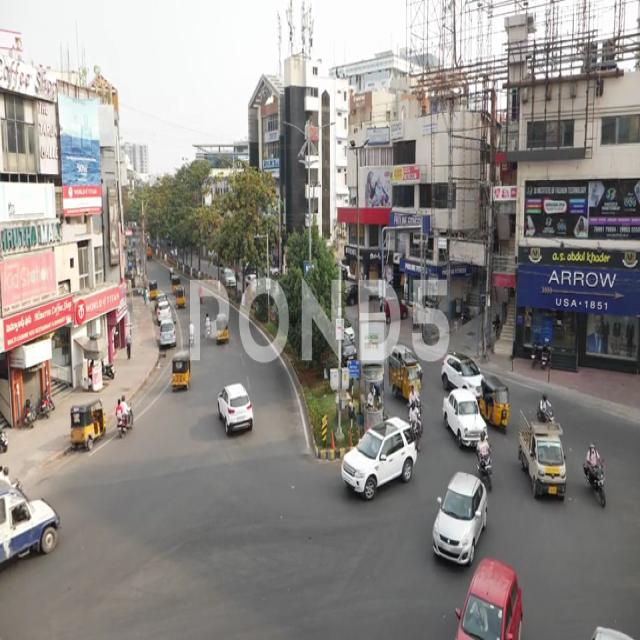car: (340, 418, 407, 500), (447, 572, 524, 640), (427, 488, 485, 566), (218, 383, 256, 439)
motorbike: (581, 442, 608, 510), (115, 398, 136, 442), (479, 433, 494, 492)
rikshaw: (70, 400, 108, 449), (487, 380, 512, 434), (171, 352, 191, 398)
truck: (524, 418, 570, 508)
